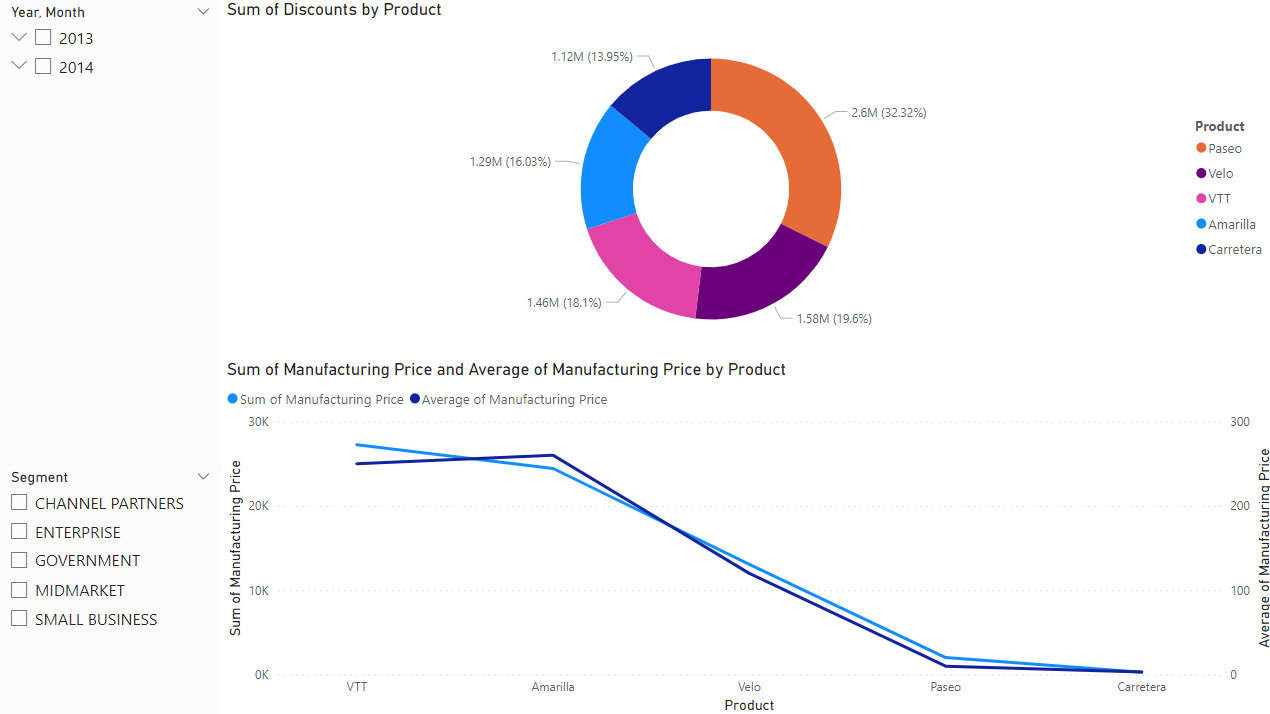

Layout of this report page (visuals, bound fields, positions):
{"tool":"powerbi","page":{"name":"Page 2","canvas":[1280,720],"ordinal":1},"visuals":[{"type":"lineChart","fields":{"Category":["financials.Product"],"Y":["Sum(financials.Manufacturing Price)"],"Y2":["Avg(financials.Manufacturing Price)"]},"box":[224.3,360.6,1055.3,359.4],"z":0},{"type":"donutChart","fields":{"Y":["Sum(financials.Discounts)"],"Category":["financials.Product"]},"box":[224.3,0,1055.3,360.6],"z":1000},{"type":"slicer","fields":{"Values":["Calendar.Date.Variation.Date Hierarchy.Year","Calendar.Date.Variation.Date Hierarchy.Month"]},"box":[0,0,224.3,465.5],"z":1001},{"type":"slicer","fields":{"Values":["financials.Segment"]},"box":[0,465.5,224.3,254.5],"z":1002}]}

Visuals, with their boxes in screenshot pixels (x1, y1, x2, y2), scaled from the page's 1280x720 canvas onto the 1270x714 screenshot:
lineChart - financials.Product x Sum(financials.Manufacturing Price): crop(223, 358, 1269, 713)
donutChart - Sum(financials.Discounts) x financials.Product: crop(223, 0, 1269, 358)
slicer - Calendar.Date.Variation.Date Hierarchy.Year x Calendar.Date.Variation.Date Hierarchy.Month: crop(0, 0, 223, 462)
slicer - financials.Segment: crop(0, 462, 223, 713)
